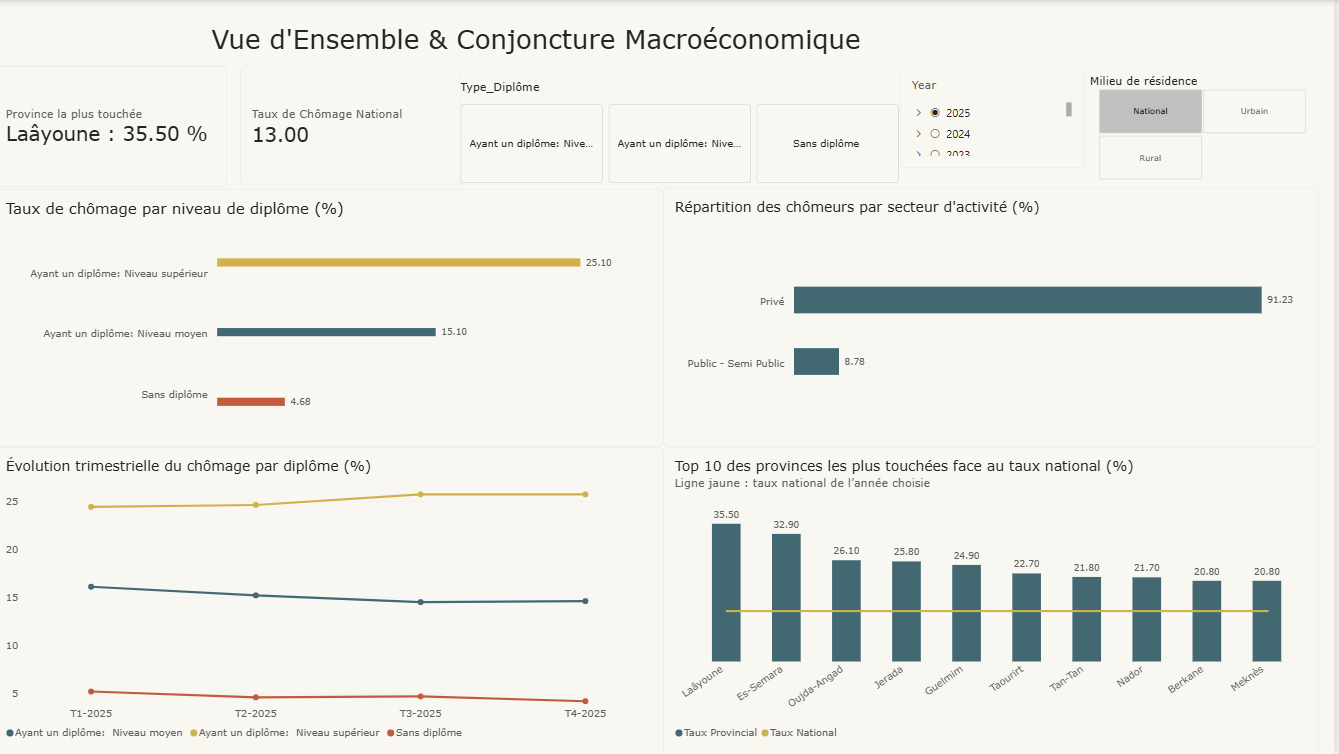

What the dashboard file says about the page in this screenshot:
{"tool":"powerbi","page":{"name":"Vue d'ensemble et macro-conjoncture","canvas":[1920,1080],"ordinal":0},"visuals":[{"type":"clusteredBarChart","title":"Taux de chômage par niveau de diplôme (%)","fields":{"Category":["Chomage_Diplome_Milieu.Type _Diplôme"],"Series":["Chomage_Diplome_Milieu.Type _Diplôme"],"Y":["Chomage_Diplome_Milieu.Chomage_Diplome_Milieu(%)"]},"box":[0,270.8,958.8,368.4],"z":0},{"type":"slicer","fields":{"Values":["DimMilieu.Milieu"]},"box":[1561.5,104.9,335.9,153.1],"z":1000},{"type":"lineChart","title":"Évolution trimestrielle du chômage par diplôme (%)","fields":{"Category":["DimQuarter.Label"],"Series":["Chomage_Diplome_Milieu.Type _Diplôme"],"Y":["Chomage_Diplome_Milieu.Chomage_Diplome_Milieu(%)"]},"box":[0,639.2,958.8,441.6],"z":2000},{"type":"clusteredBarChart","title":"Répartition des chômeurs par secteur d''activité (%)","fields":{"Category":["Chomage_Secteur_Milieu.Secteur"],"Y":["Chomage_Secteur_Milieu.Chomage_Secteur_Milieu(%)"]},"box":[958.8,268.4,939.3,370.9],"z":3000},{"type":"cardVisual","title":"\tTaux provincial le plus élevé (%)","fields":{"Data":["Chomage_Province_Milieu.Province_Plus_Touche_Et_Taux"]},"box":[0,95.2,334.3,173.2],"z":4000},{"type":"cardVisual","fields":{"Data":["Chomage_Maroc.Chômage_Total(%)"]},"box":[351.3,97.6,317.2,168.3],"z":5000},{"type":"listSlicer","fields":{"Values":["DimQuarter.Date.Variation.Date Hierarchy.Year","DimQuarter.Date.Variation.Date Hierarchy.Quarter","DimQuarter.Date.Variation.Date Hierarchy.Month","DimQuarter.Date.Variation.Date Hierarchy.Day"]},"box":[1298,97.6,263.5,143.9],"z":6000},{"type":"advancedSlicerVisual","fields":{"Values":["Chomage_Diplome_Milieu.Type_Diplôme"]},"box":[668.5,114.7,629.5,148.8],"z":7000},{"type":"lineClusteredColumnComboChart","title":"Top 10 des provinces les plus touchées face au taux national (%)","fields":{"Category":["Chomage_Province_Milieu.Provinces/Préfectures"],"Y":["Chomage_Province_Milieu.Chomage_Province_Milieu(%)"],"Y2":["Chomage_Maroc.Chômage_National(%)"]},"box":[958.8,639.2,939.3,441.6],"z":8000},{"type":"textbox","box":[168.3,31.7,1217.5,63.4],"z":8001}]}

Visuals, with their boxes in screenshot pixels (x1, y1, x2, y2), scaled from the page's 1920x1080 canvas onto the 1339x754 screenshot:
"Taux de chômage par niveau de diplôme (%)" clusteredBarChart: bbox(0, 189, 669, 446)
slicer - DimMilieu.Milieu: bbox(1089, 73, 1323, 180)
"Évolution trimestrielle du chômage par diplôme (%)" lineChart: bbox(0, 446, 669, 753)
"Répartition des chômeurs par secteur d''activité (%)" clusteredBarChart: bbox(669, 187, 1324, 446)
"	Taux provincial le plus élevé (%)" cardVisual: bbox(0, 66, 233, 187)
cardVisual - Chomage_Maroc.Chômage_Total(%): bbox(245, 68, 466, 186)
listSlicer - DimQuarter.Date.Variation.Date Hierarchy.Year x DimQuarter.Date.Variation.Date Hierarchy.Quarter: bbox(905, 68, 1089, 169)
advancedSlicerVisual - Chomage_Diplome_Milieu.Type_Diplôme: bbox(466, 80, 905, 184)
"Top 10 des provinces les plus touchées face au taux national (%)" lineClusteredColumnComboChart: bbox(669, 446, 1324, 753)
textbox: bbox(117, 22, 966, 66)
